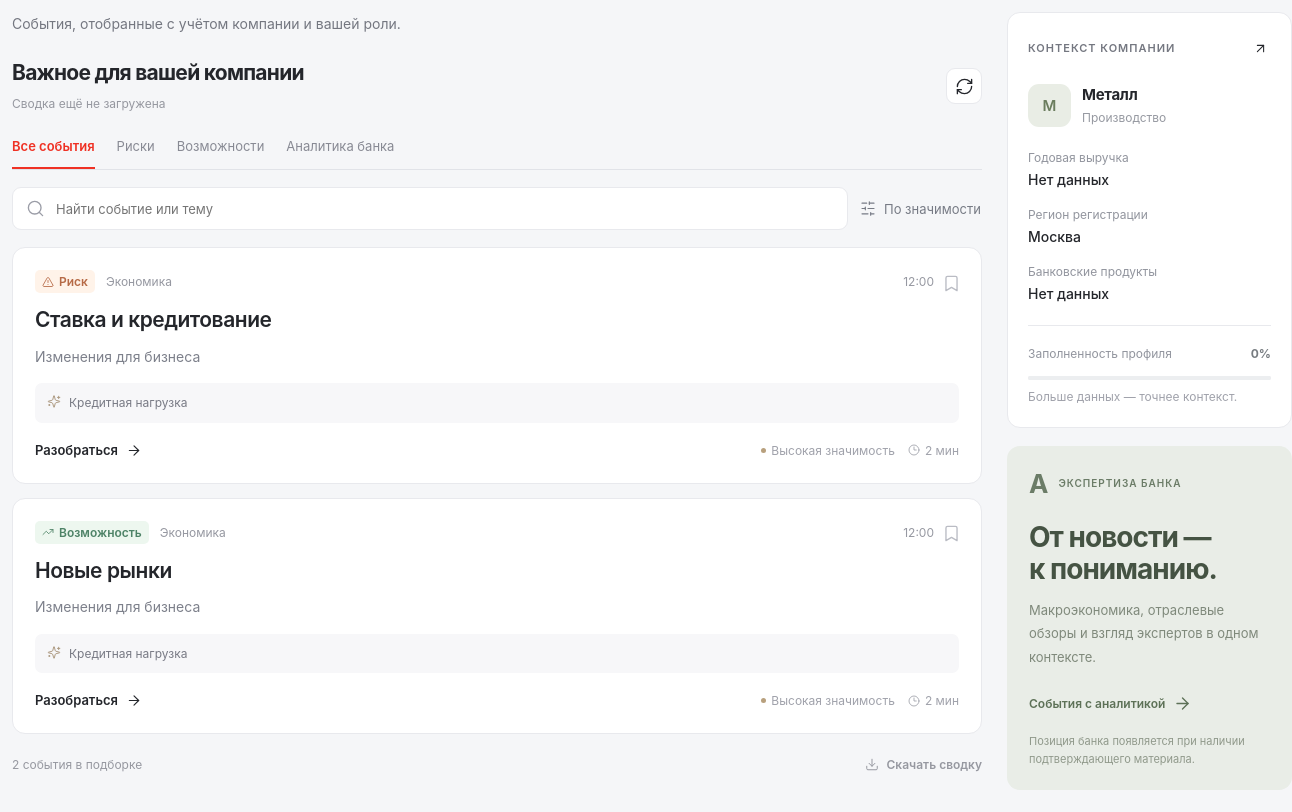
Test: React-интерфейс › сочетает фильтры с поиском, сохраняет фокус ввода и закладки
Click the button "Риски": click(136, 148) x1=117 y1=127 x2=155 y2=169
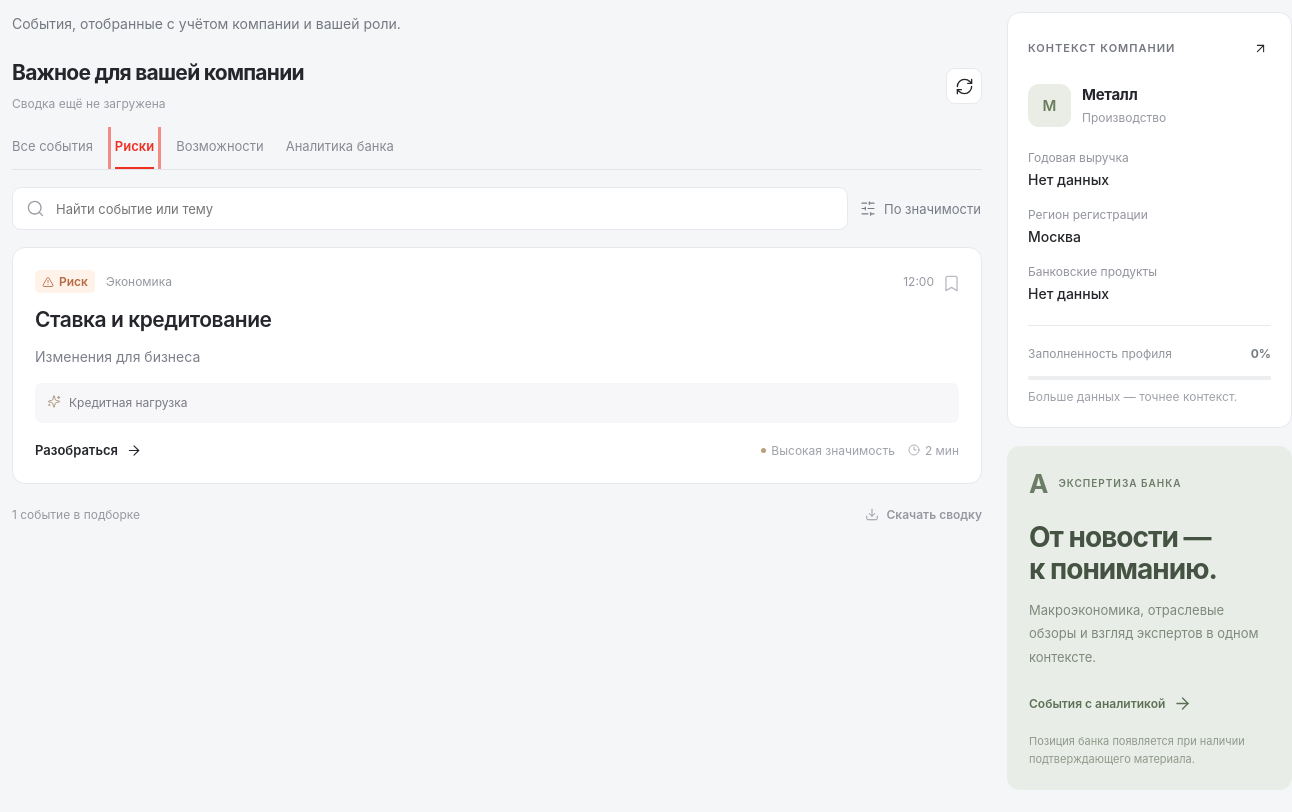
Check: the button "Новые рынки" is gone
In the search field: (444, 209) x1=54 y1=188 x2=834 y2=229, type "СТАВКА"
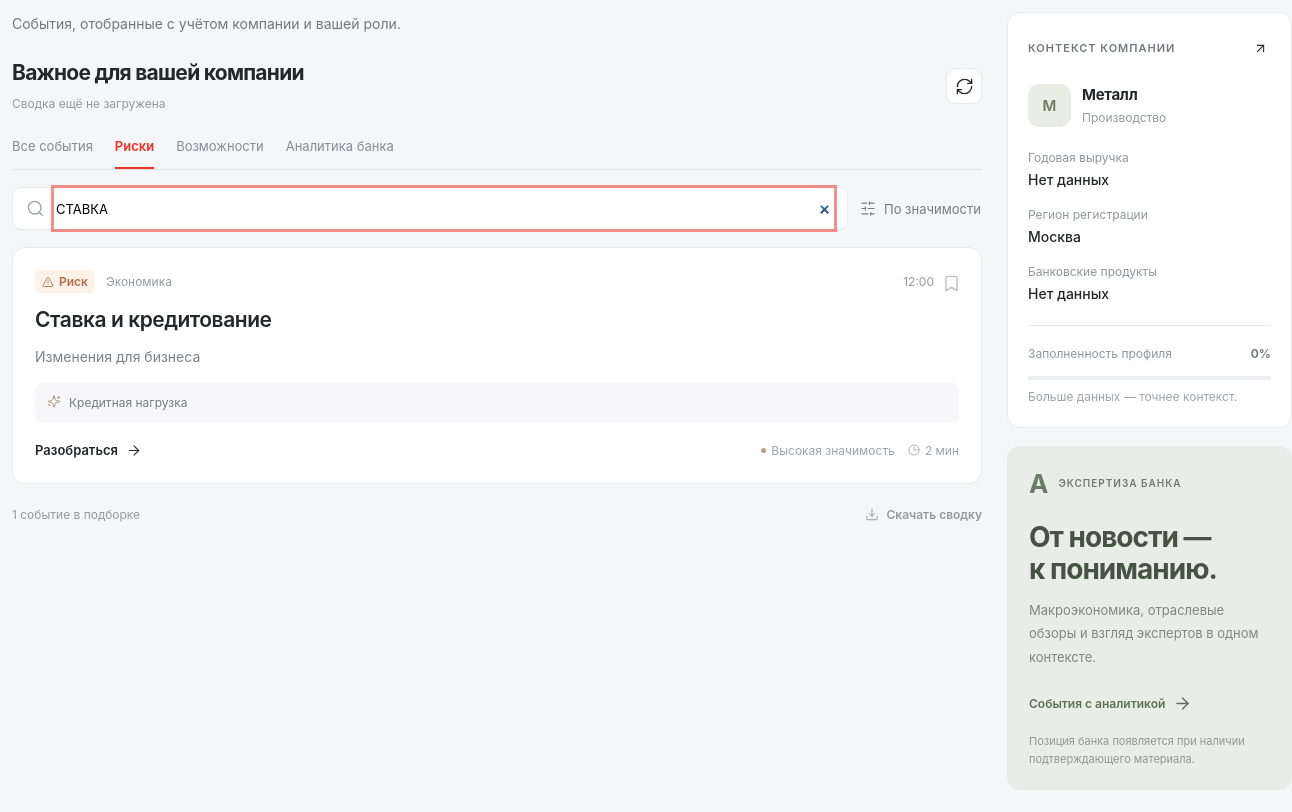
Check: the button "Ставка и кредитование" is shown, box x1=35 y1=306 x2=272 y2=335
Click the button named "Сохранить событие": click(951, 282) x1=935 y1=266 x2=967 y2=298
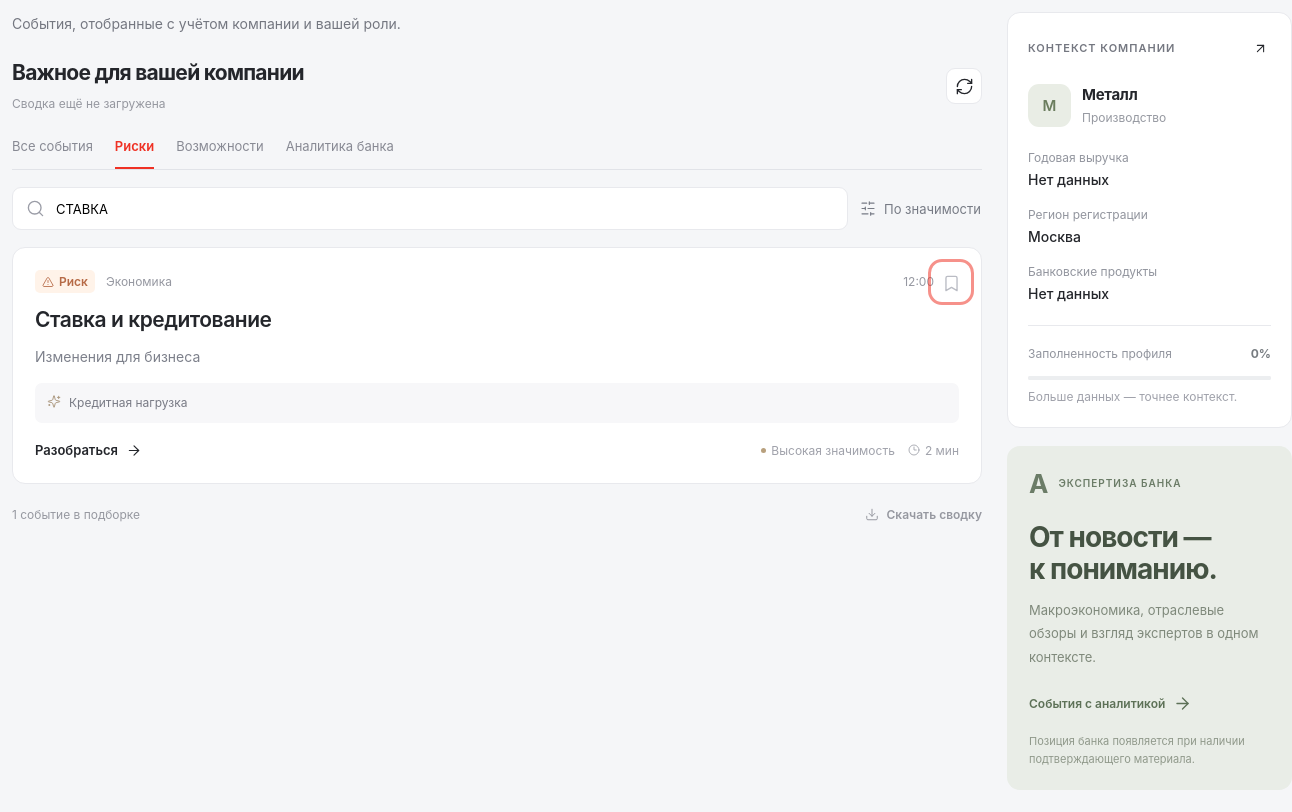
In the search field: (444, 209) x1=54 y1=188 x2=834 y2=229, type " неизвестное"
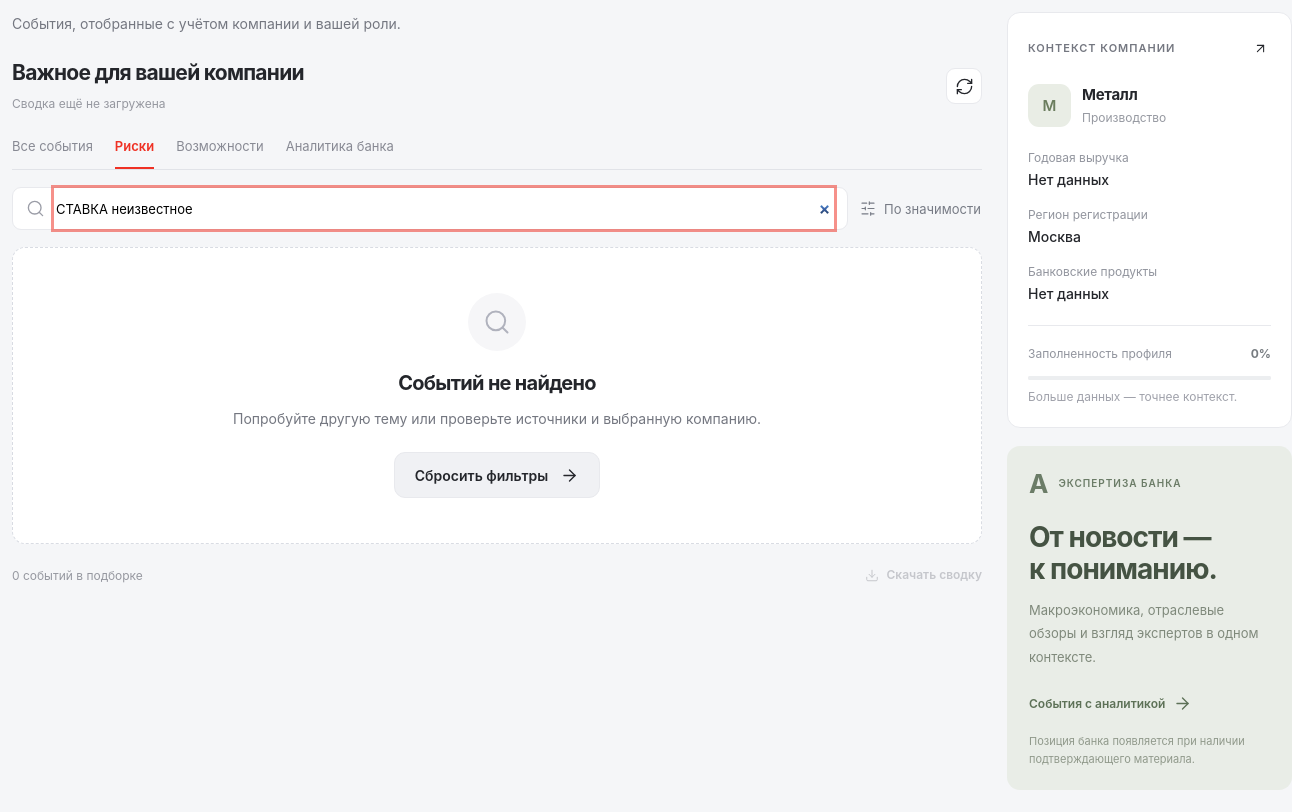
Check: the heading "Событий не найдено" is shown, box x1=398 y1=371 x2=596 y2=395
Click the button "Сбросить фильтры": click(497, 475) x1=394 y1=452 x2=600 y2=498
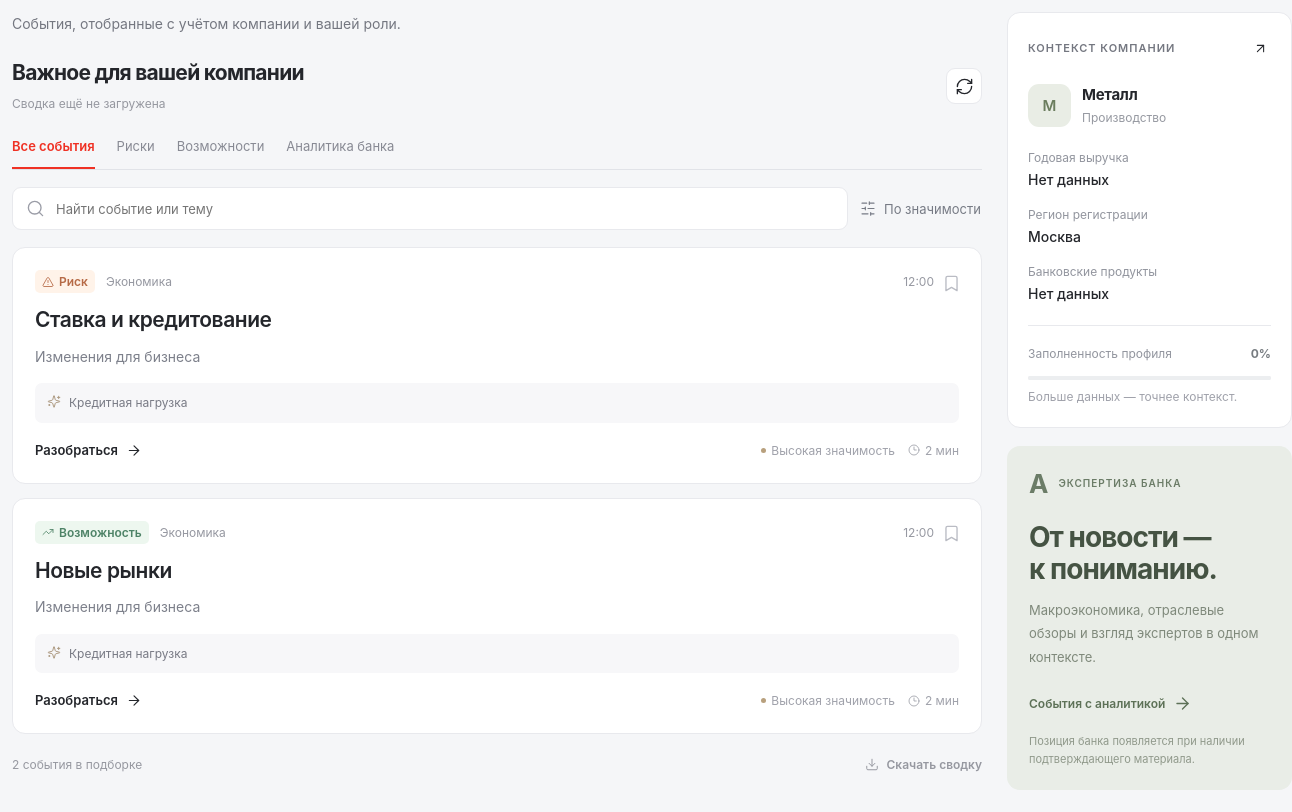
Check: the search field is empty, box x1=54 y1=188 x2=834 y2=229
Check: the button "Новые рынки" is shown, box x1=35 y1=557 x2=172 y2=585
